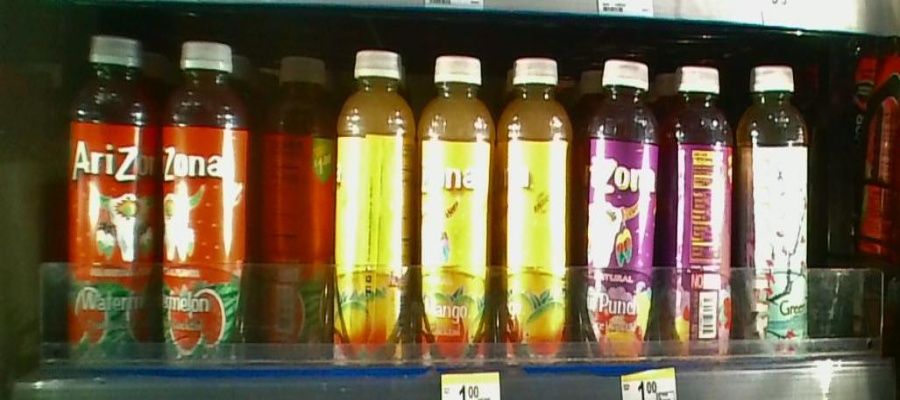bottle: (67, 32, 159, 380), (164, 26, 250, 382), (338, 38, 419, 373), (498, 44, 579, 361), (582, 51, 663, 367), (261, 39, 335, 375), (739, 54, 815, 365), (421, 48, 495, 349), (665, 54, 734, 363)
